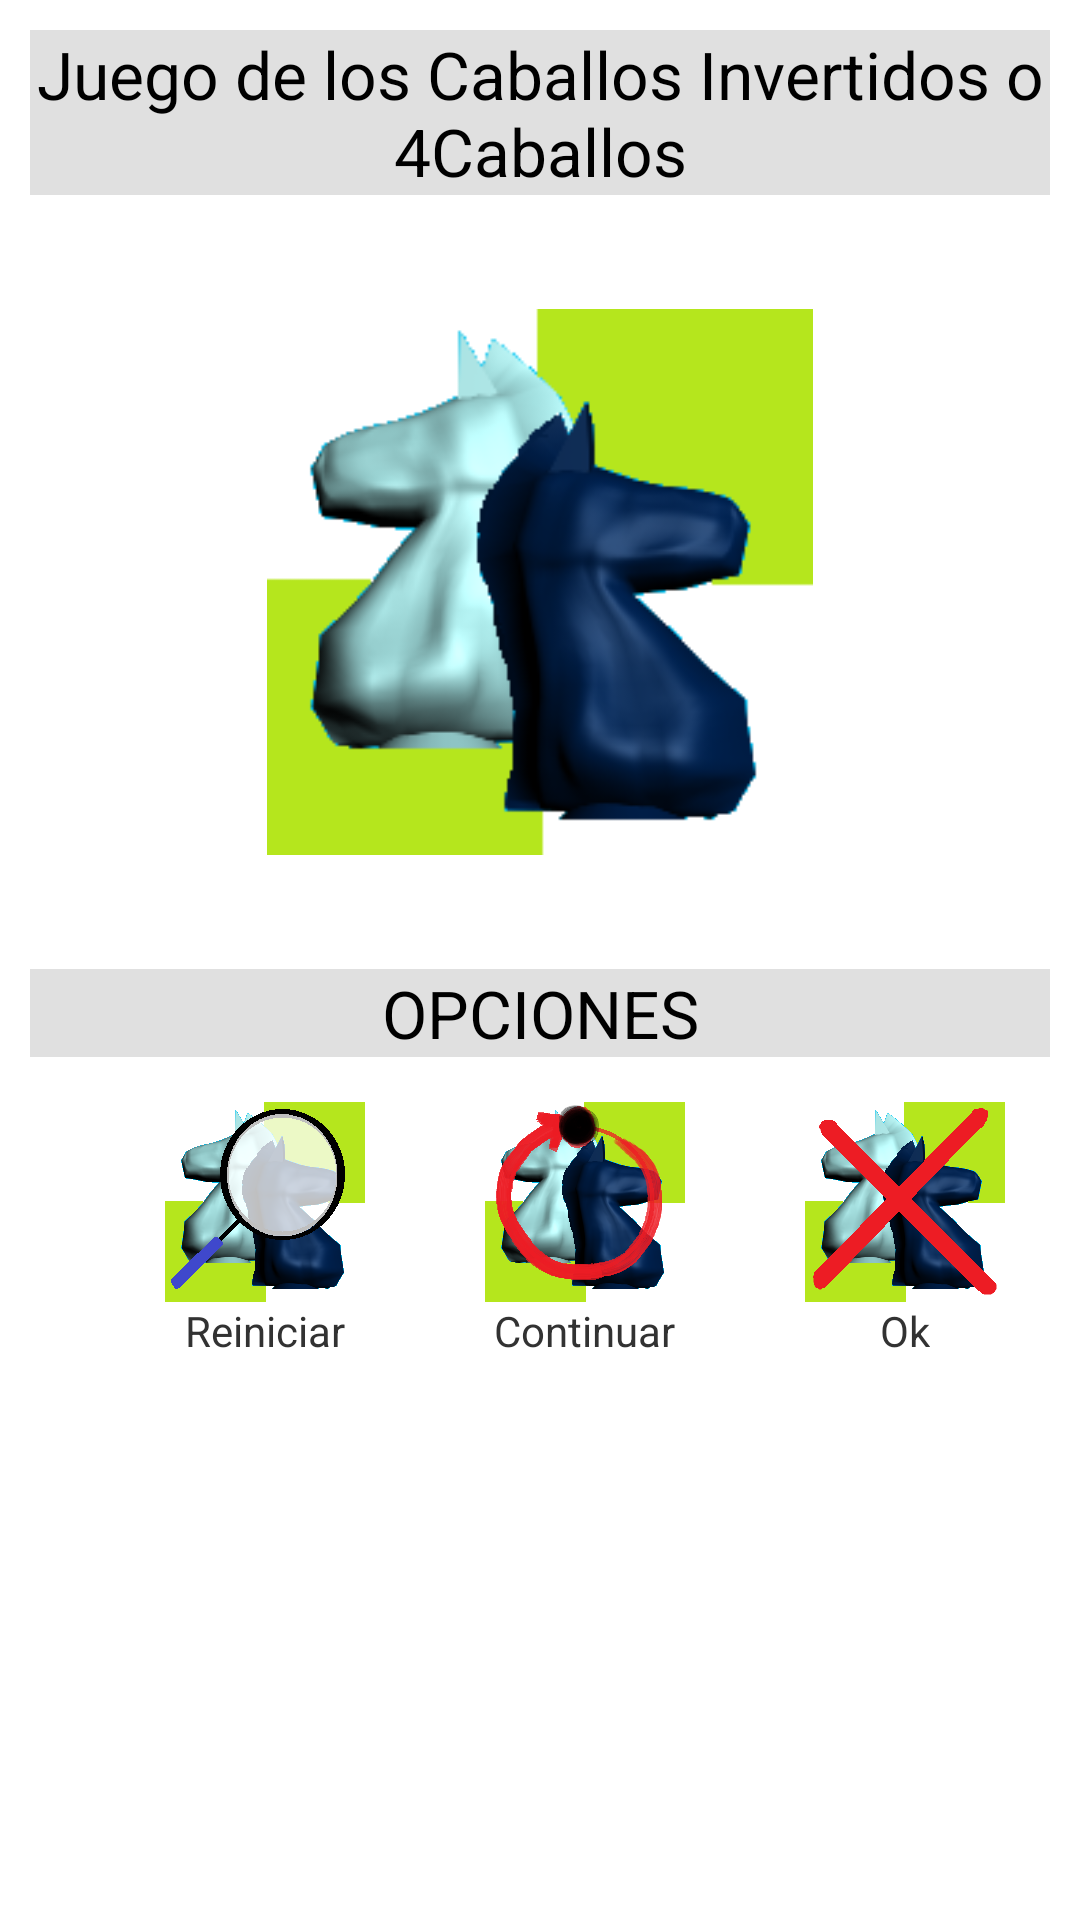

Locate icon controls on the screen. Image size 1080 x 1920, boxes as (x1, y1, x2, y2).
exit: (805, 1102, 1005, 1302)
reset: (485, 1102, 685, 1302)
view: (165, 1102, 365, 1302)
